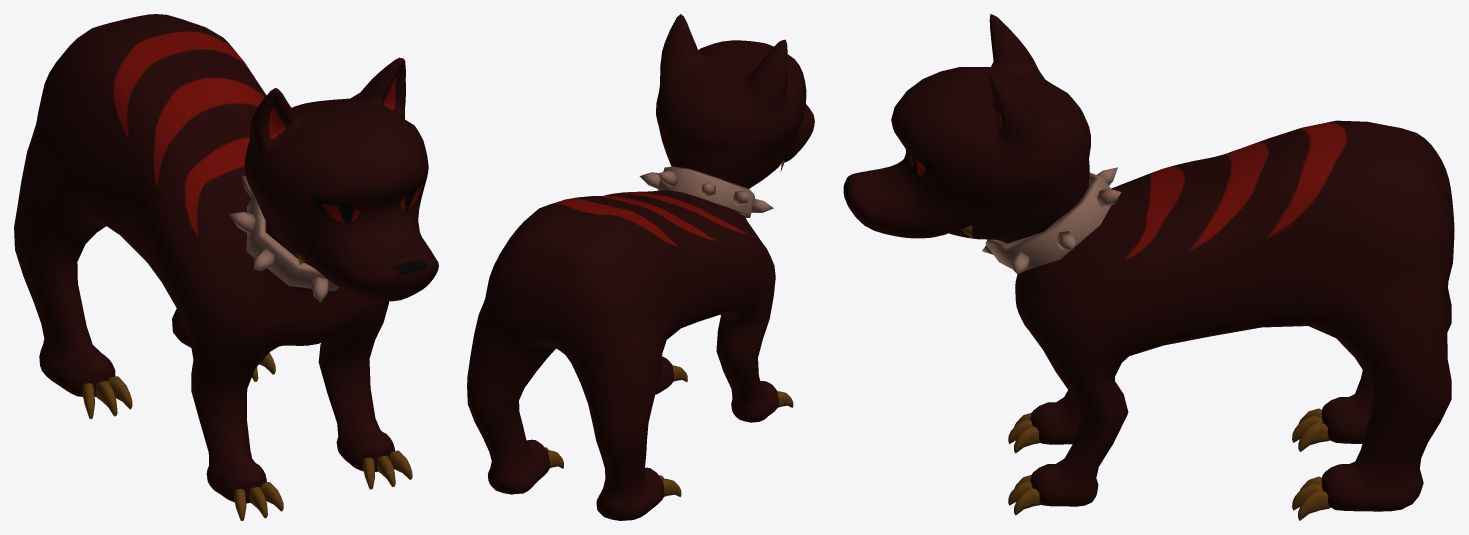
The model's file is firedog.fbx.
3 renders of one model, left to right at view 1: azimuth 30°, elevation 25°; view 2: azimuth 150°, elevation 25°; view 3: azimuth 270°, elevation 25°, orthographic. The views are drawn at different scales.
Parts seen in each view (by area): view 1: firedog; view 2: firedog; view 3: firedog.
Part boxes in pixels (left/top/right/bottom): firedog: left=14, top=14, right=438, bottom=520; firedog: left=467, top=14, right=814, bottom=520; firedog: left=843, top=14, right=1454, bottom=520.
Bounding box in the file's own units: 0.6926 × 1.33 × 1.71.
Materials: 3 (1 with a texture image).
